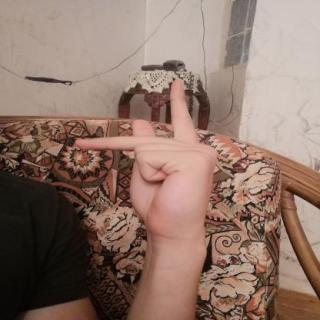DHAA: (60, 70, 229, 245)
